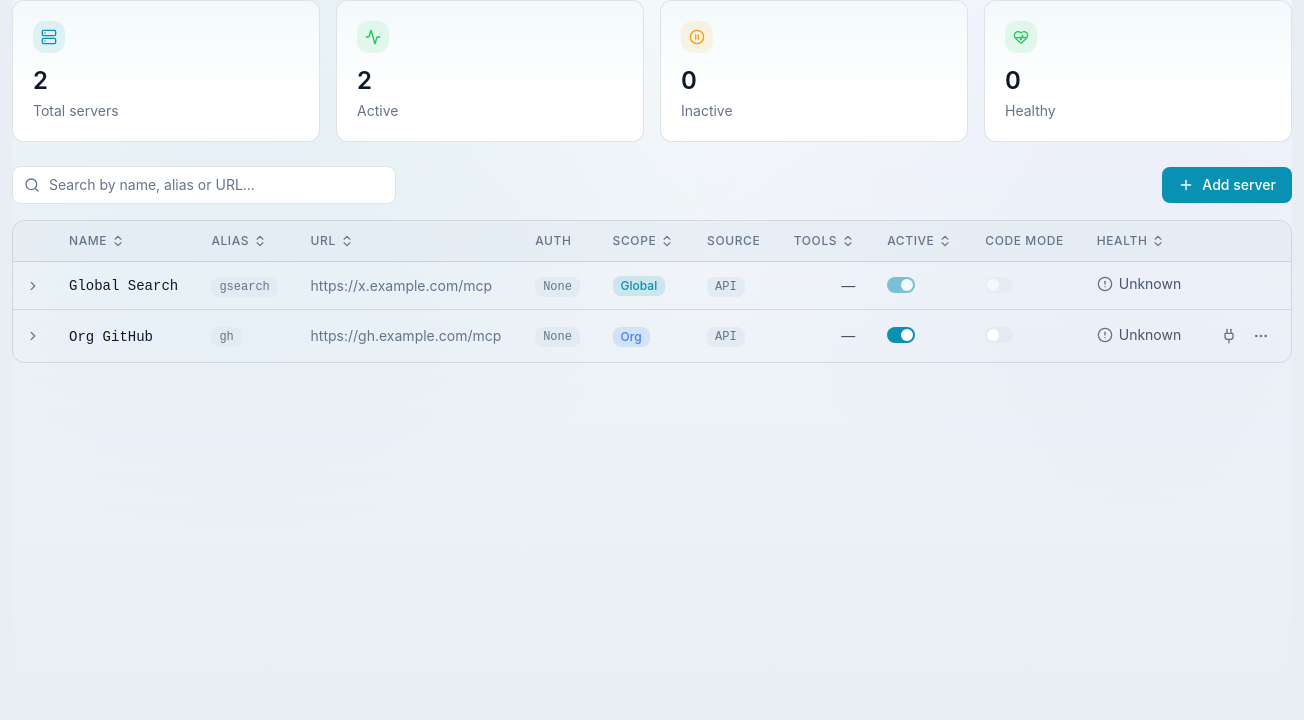
it: MCPServersPage › filters by alias/url and shows an empty state when nothing matches
expect the text "Org GitHub" is shown: met, box top-left (69, 328), bottom-right (153, 344)
Type "gsearch" into the search field named "Search servers". click: (204, 185)
box: top-left (12, 166), bottom-right (396, 204)
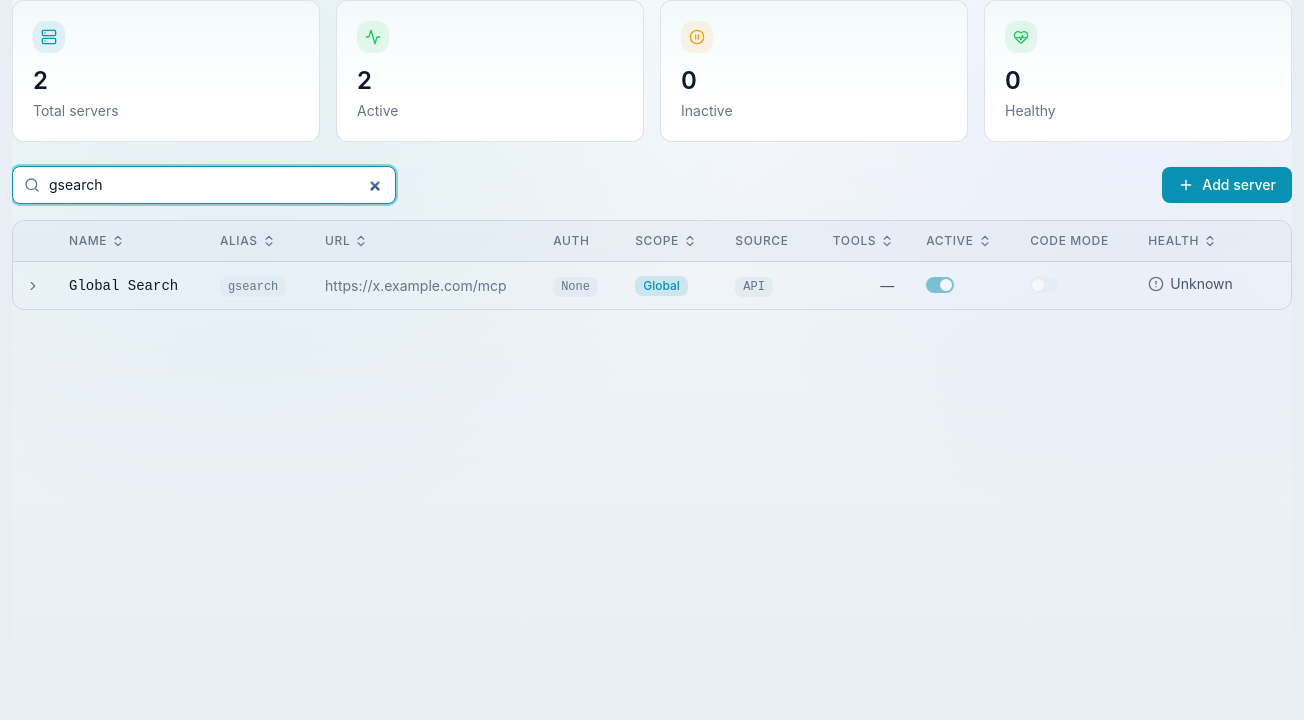
expect the text "Global Search" is shown: met, box top-left (69, 278), bottom-right (178, 294)
expect the text "Org GitHub" is gone: met
Replace the text in the search field named "Search servers" with "nomatch". click: (204, 185)
box: top-left (12, 166), bottom-right (396, 204)
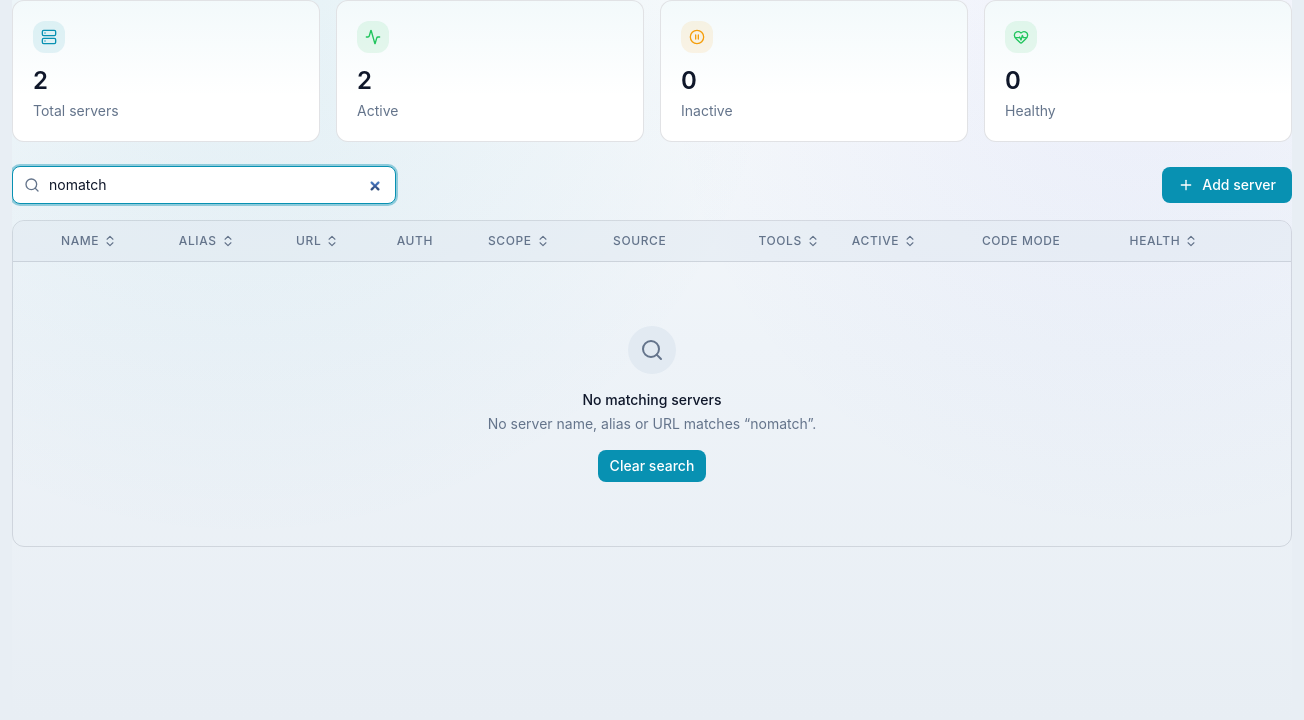
expect the heading "No matching servers" is shown: met, box top-left (582, 391), bottom-right (722, 408)
